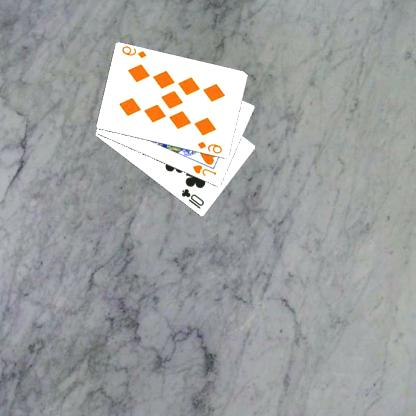10C: (180, 186, 208, 210)
9D: (196, 139, 226, 155), (121, 44, 150, 60)
JH: (192, 162, 219, 177)
